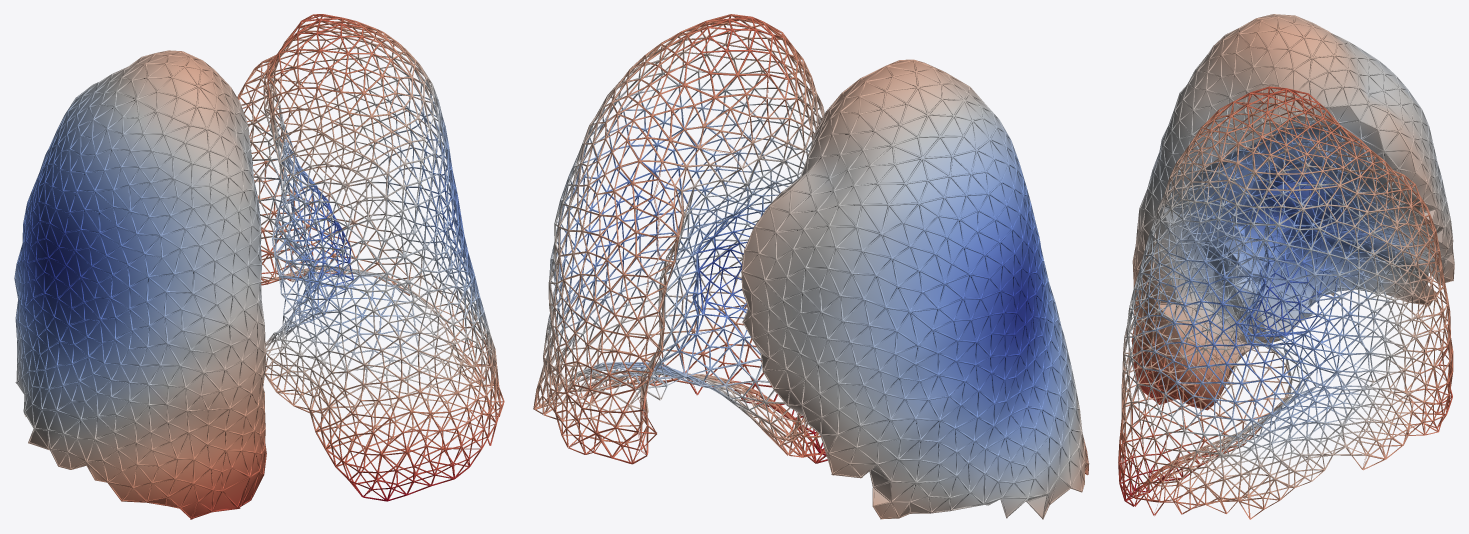
The model's file is BlenderWireframe_noGlow.glb.
3 renders of one model, left to right at view 1: azimuth 30°, elevation 25°; view 2: azimuth 150°, elevation 25°; view 3: azimuth 270°, elevation 25°, orthographic. The views are drawn at different scales.
Parts seen in each view (by area): view 1: LungS_Inverted_LL002, LungS_Inverted_LL; view 2: LungS_Inverted_LL002, LungS_Inverted_LL; view 3: LungS_Inverted_LL002, LungS_Inverted_LL.
Part boxes in pixels (<box>): LungS_Inverted_LL002: <box>14,50,266,519</box>; LungS_Inverted_LL: <box>237,14,504,501</box>; LungS_Inverted_LL002: <box>741,59,1089,519</box>; LungS_Inverted_LL: <box>533,14,827,464</box>; LungS_Inverted_LL002: <box>1131,14,1454,410</box>; LungS_Inverted_LL: <box>1118,86,1453,519</box>.
Bounding box in the file's own units: 2.57 × 2.4 × 1.8.
